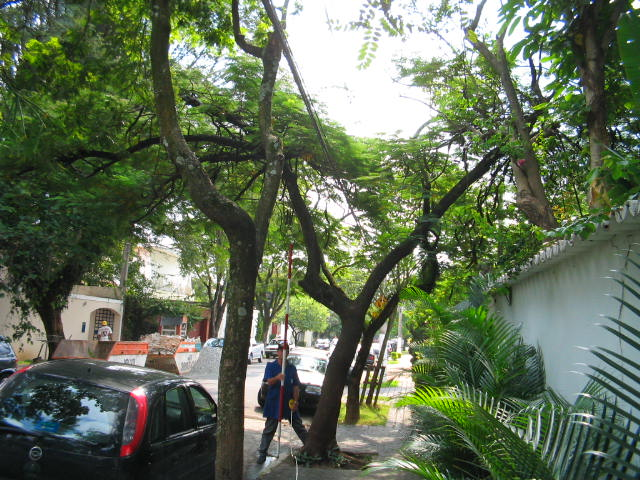stem: (298, 309, 364, 465)
stick: (272, 241, 296, 458)
tree: (104, 75, 588, 467)
